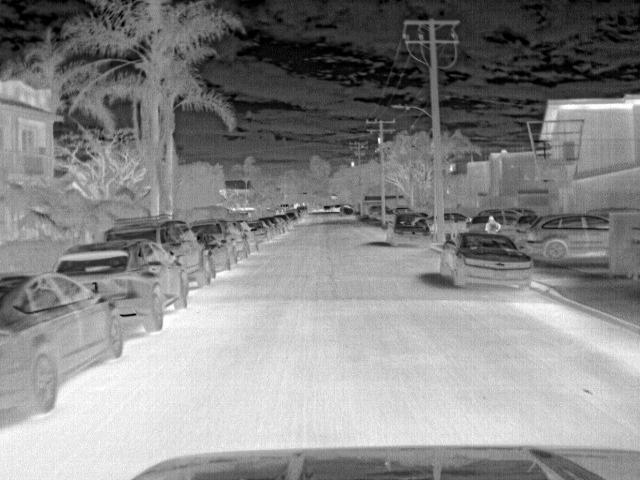car: (1, 270, 125, 412), (56, 238, 190, 334), (105, 214, 218, 287), (436, 228, 535, 289), (517, 212, 611, 262), (187, 218, 238, 271), (219, 220, 247, 262), (236, 219, 259, 253), (445, 210, 468, 237), (248, 221, 270, 243), (263, 216, 284, 234), (274, 214, 293, 227), (368, 206, 384, 220), (340, 206, 355, 218), (285, 213, 300, 224)
person: (386, 211, 434, 247), (482, 212, 502, 232)
